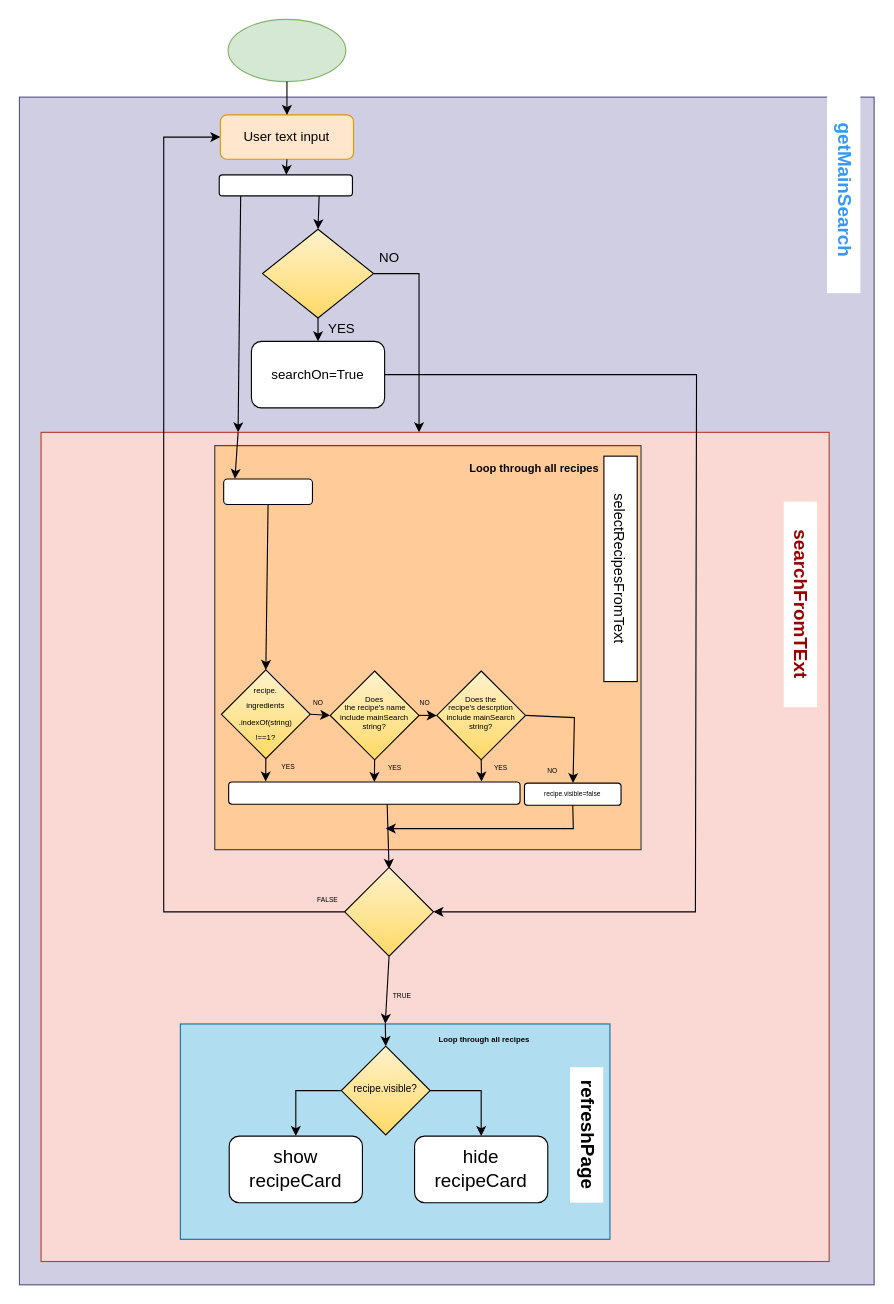
This 894x1304 diagram has some shape labels left out. The centre of each missing label's shape, as x and y in pixels:
ingredientFound=false: pixel 267 491
Mainsearch: pixel 285 185
mainSearch > 2 characters?: pixel 317 273
recipe.visible=true: pixel 374 792
searchOn?: pixel 388 911
START searchOn=False: pixel 286 50
